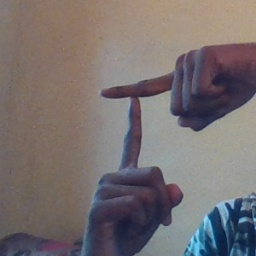T: (87, 60, 200, 194)
